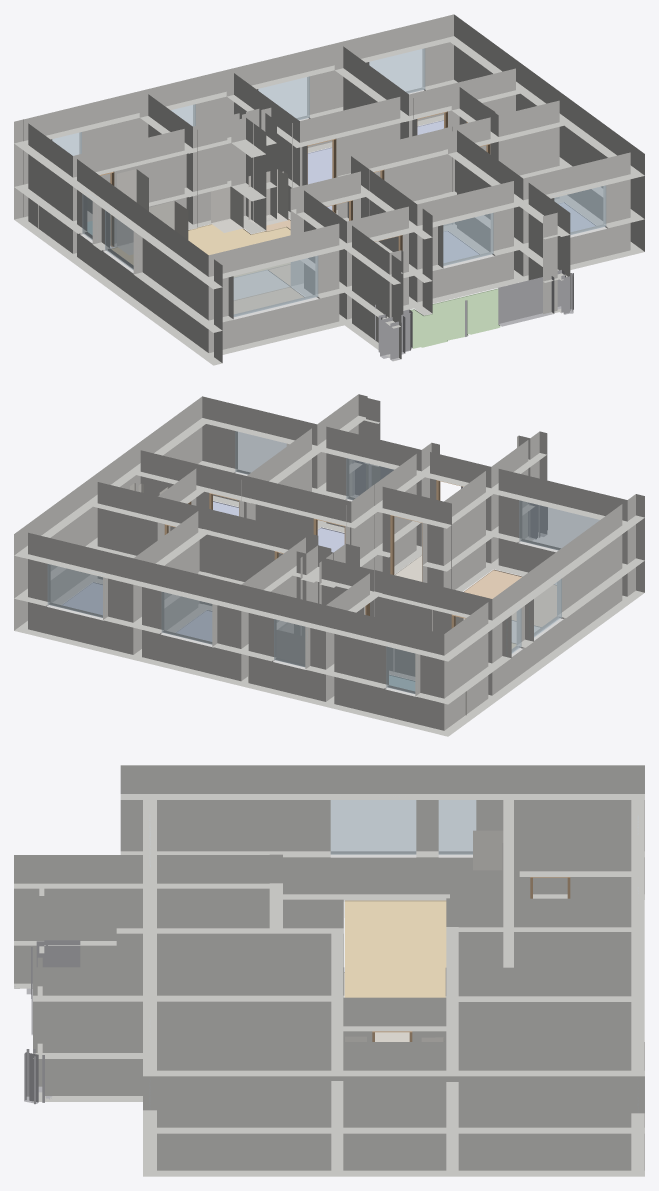
3 views of the same model, one above another, from view 1: azimuth 30°, elevation 25°; view 2: azimuth 150°, elevation 25°; view 3: azimuth 270°, elevation 25° (orthographic). The views are drawn at different scales.
Parts seen in each view (by area): view 1: walls, railings, window_7, floor_12_Outdoor, window_2, floor_4_Kitchen, window_0, window_1, window_3, floor_5_Living_Room, furniture_0_closet, furniture_7_appliance (+6 smaller); view 2: walls, window_7, window_1, window_3, floor_5_Living_Room, window_0, window_9, window_6, railings, window_2, window_4, furniture_11_sauna_bench (+3 smaller); view 3: walls, floor_4_Kitchen, window_4, railings, window_16, furniture_0_closet.
Boxes of the visible parts, box(x1,y1,x2,y2) form: walls: box(14, 14, 644, 365); railings: box(375, 270, 573, 361); window_7: box(233, 255, 318, 316); floor_12_Outdoor: box(410, 288, 500, 348); window_2: box(443, 213, 493, 265); floor_4_Kitchen: box(111, 224, 290, 277); window_0: box(553, 185, 606, 234); window_1: box(369, 48, 425, 93); window_3: box(258, 76, 309, 119); floor_5_Living_Room: box(234, 218, 303, 313); furniture_0_closet: box(117, 169, 148, 254); furniture_7_appliance: box(211, 186, 243, 232); walls: box(14, 394, 644, 736); window_7: box(519, 500, 599, 550); window_1: box(47, 564, 104, 617); window_3: box(161, 592, 212, 644); floor_5_Living_Room: box(464, 569, 556, 626); window_0: box(235, 431, 286, 474); window_9: box(274, 619, 307, 667); window_6: box(386, 644, 415, 693); railings: box(352, 460, 547, 539); window_2: box(346, 458, 393, 500); window_4: box(529, 578, 561, 637); furniture_11_sauna_bench: box(248, 630, 304, 682); walls: box(14, 765, 644, 1176); floor_4_Kitchen: box(344, 900, 446, 997); window_4: box(330, 800, 416, 854); railings: box(14, 940, 80, 1104); window_16: box(438, 800, 476, 854); furniture_0_closet: box(473, 830, 503, 870).
Size of the model in its own units: 12.69 by 2.72 by 11.99.
